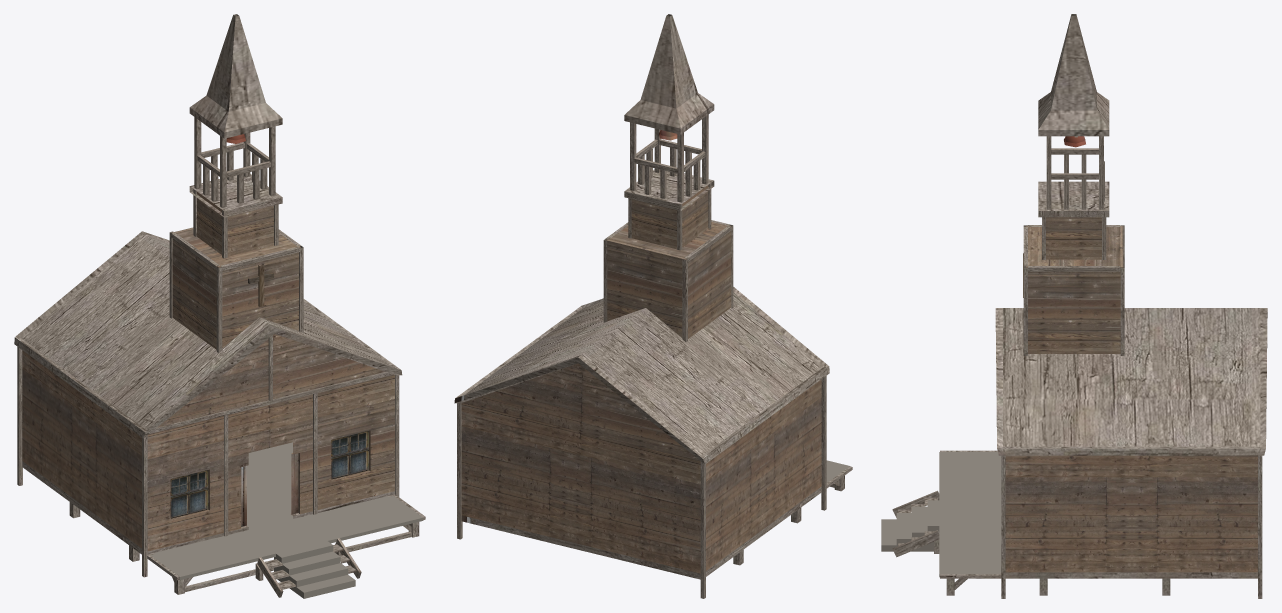
File: church.walls-v2.lod0.glb
3 views of the same model, side by side, from view 1: azimuth 30°, elevation 25°; view 2: azimuth 150°, elevation 25°; view 3: azimuth 270°, elevation 25° (orthographic). The views are drawn at different scales.
Parts seen in each view (by area): view 1: Object079_Material #30_0, Walkable floors and stairs; view 2: Object079_Material #30_0; view 3: Object079_Material #30_0, Walkable floors and stairs.
Boxes of the visible parts, box(x1,y1,x2,y2) form: Object079_Material #30_0: box(14, 14, 425, 597); Walkable floors and stairs: box(150, 442, 423, 598); Object079_Material #30_0: box(454, 14, 852, 598); Object079_Material #30_0: box(892, 14, 1267, 598); Walkable floors and stairs: box(881, 452, 1001, 577).
Bounding box in the file's own units: 8.52 × 16 × 10.69.
2 materials, 1 textured.
